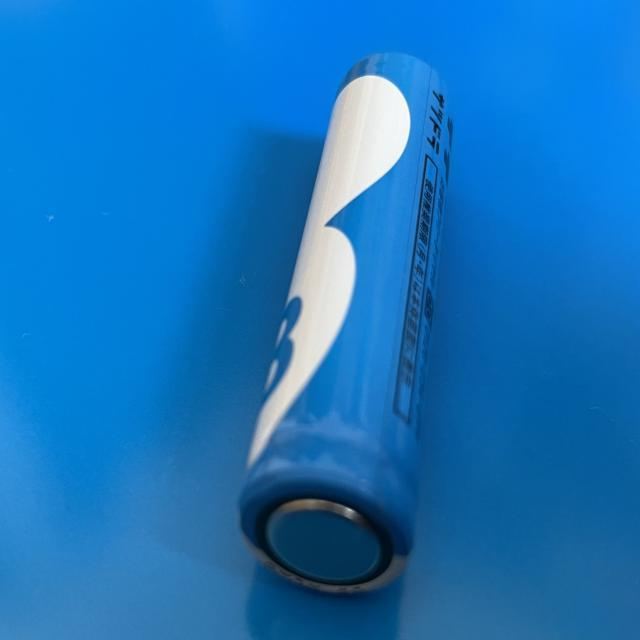AA: (232, 49, 456, 597)
